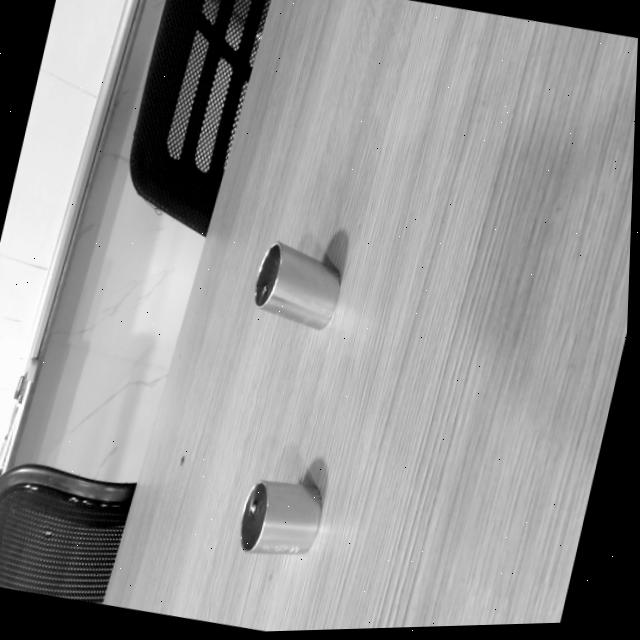Co_Lon: (245, 238, 351, 335)
Co_Nho: (239, 478, 324, 559)
